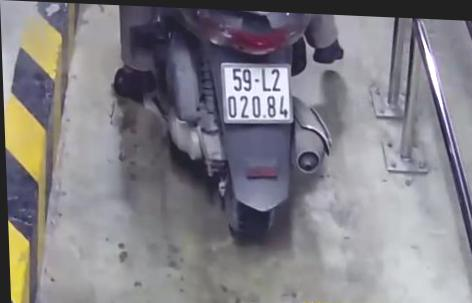License_Plate: (218, 59, 299, 131)
